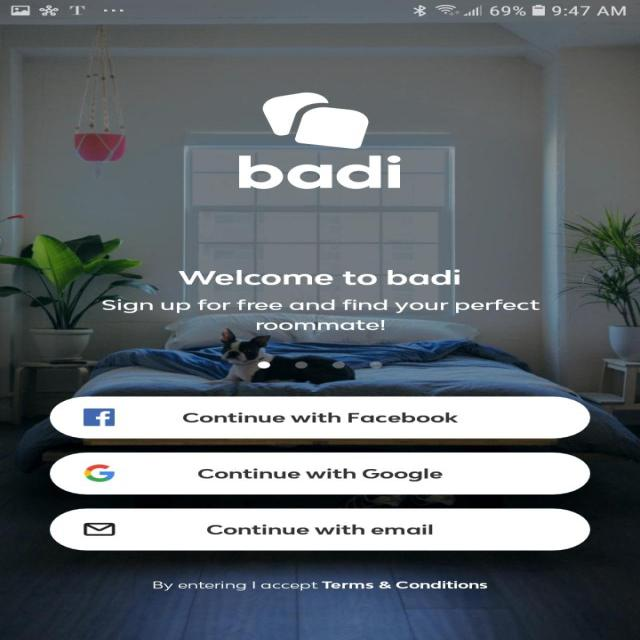BackgroundImage: (0, 24, 639, 640)
Image: (261, 92, 369, 149)
Text: (101, 298, 540, 330), (237, 154, 401, 190), (178, 268, 460, 285), (152, 580, 487, 590)
TextButton: (48, 396, 590, 438), (48, 452, 590, 494), (48, 508, 590, 550)
